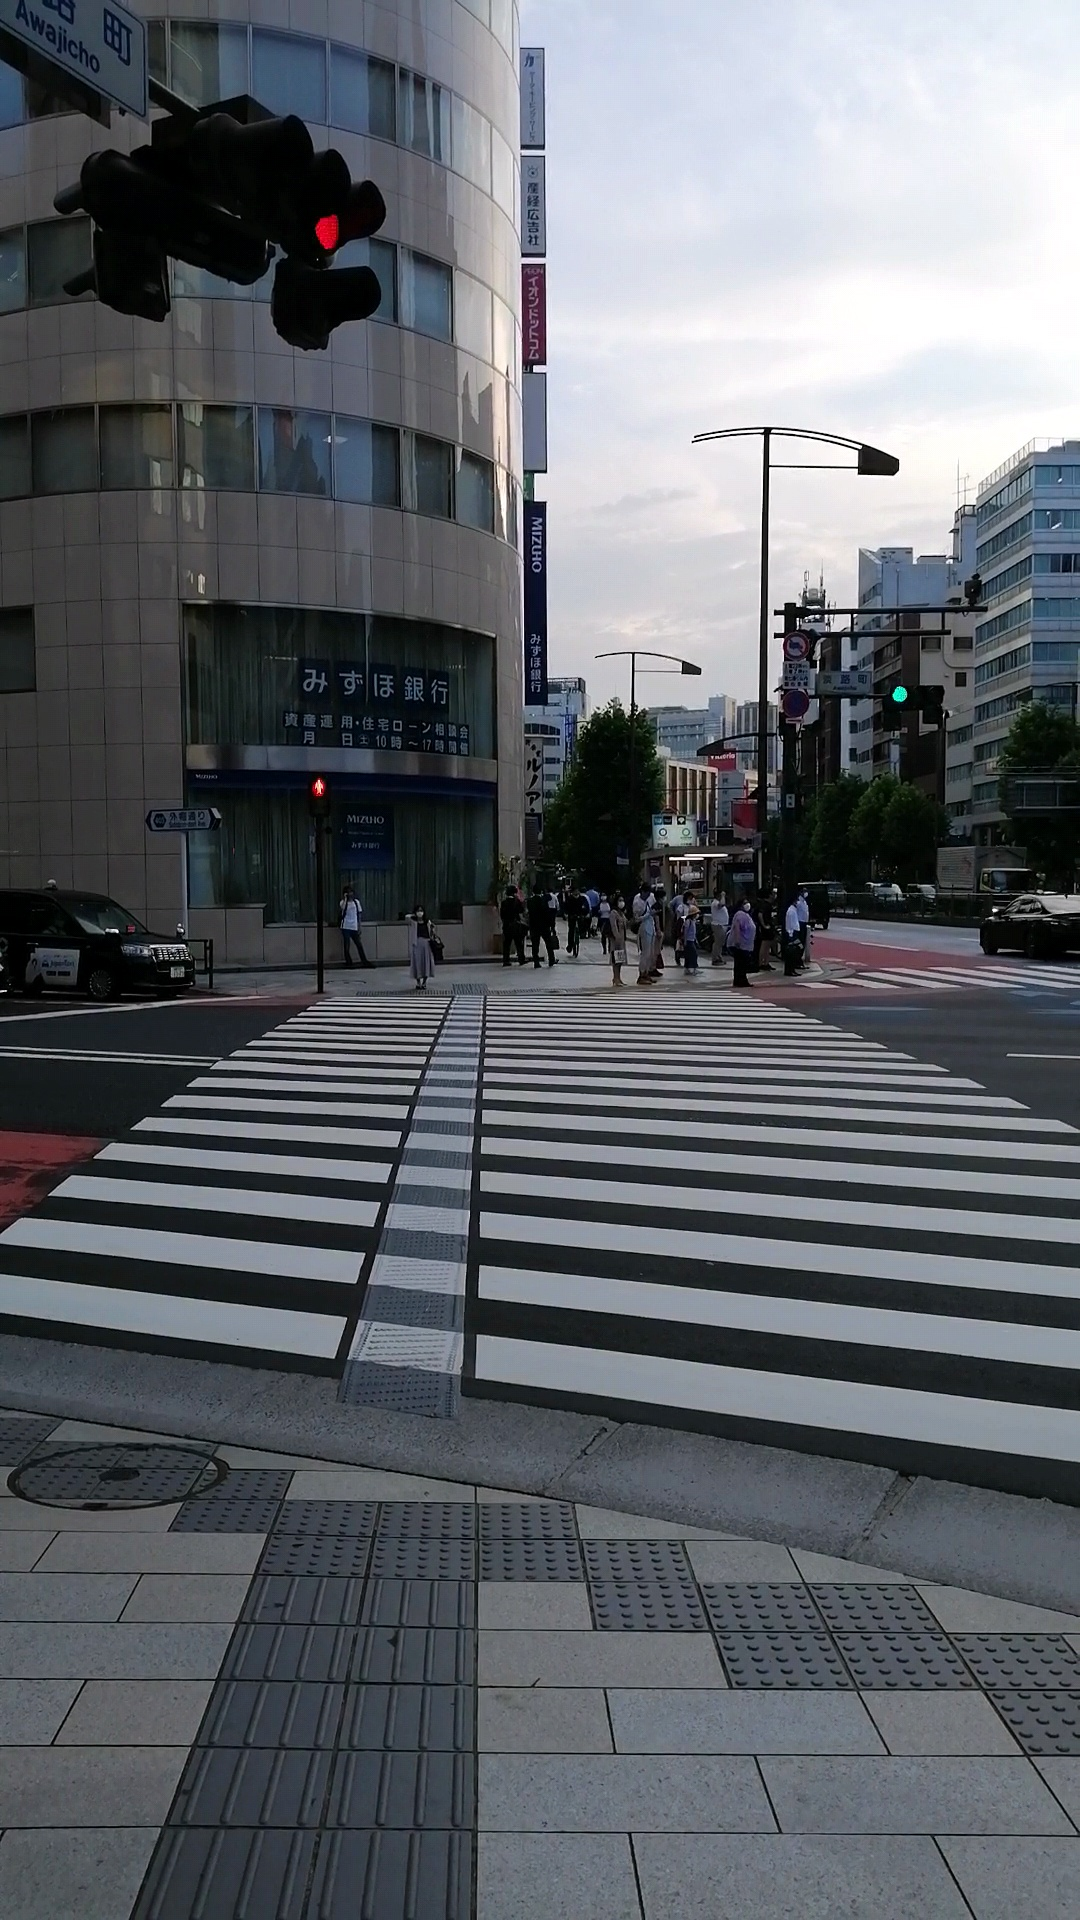red: (307, 774, 328, 818)
